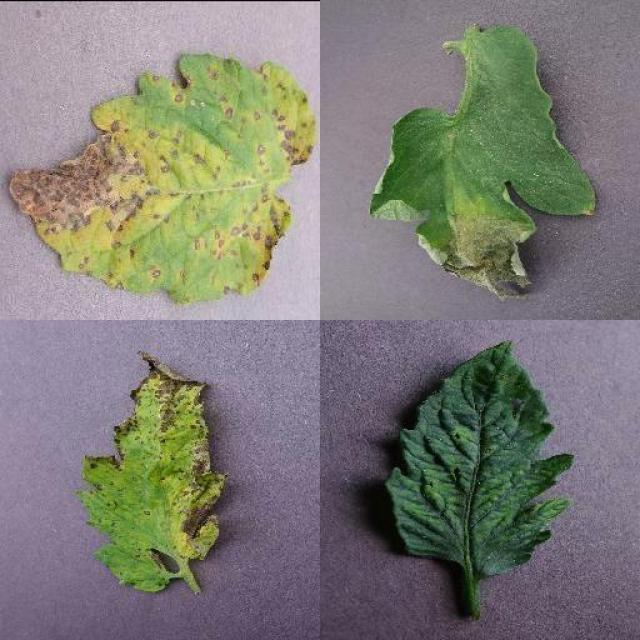Late Blight: (369, 29, 599, 302)
Septoria: (9, 51, 319, 302), (84, 351, 225, 595)
